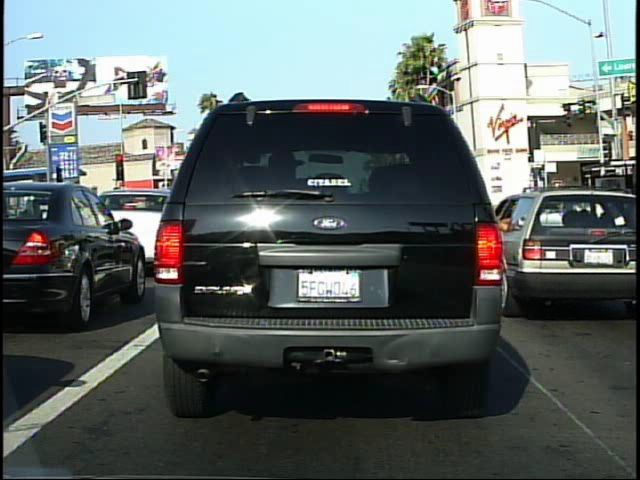person: (589, 184, 617, 240), (562, 182, 582, 238)
